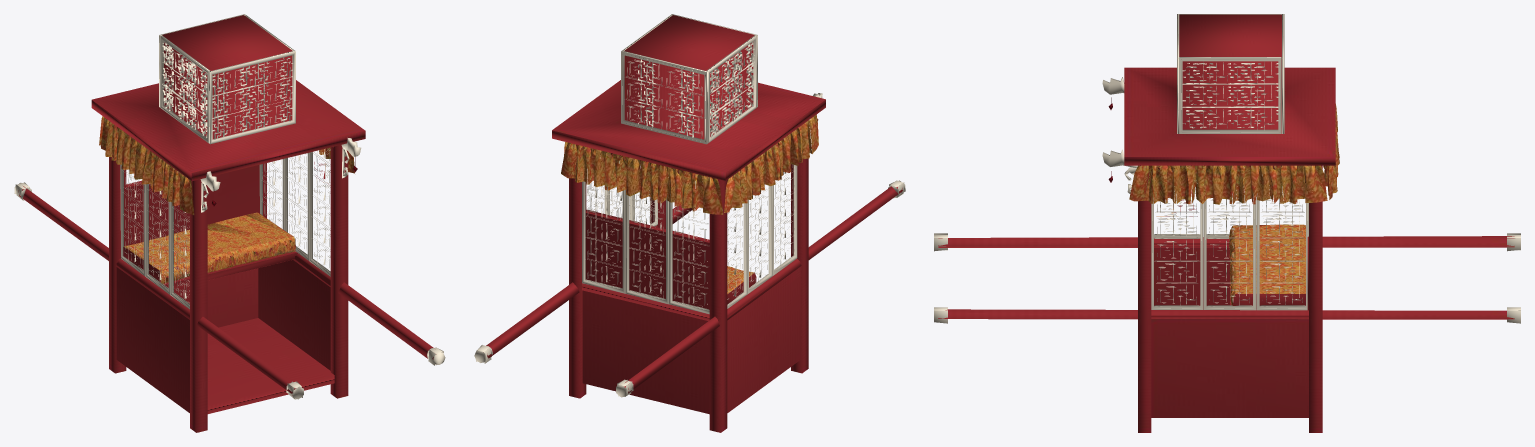
Rendered from GamaEmpty.glb.
3 views of the same model, side by side, from view 1: azimuth 30°, elevation 25°; view 2: azimuth 150°, elevation 25°; view 3: azimuth 270°, elevation 25° (orthographic). The views are drawn at different scales.
Visible parts, largest first — view 1: GamaMesh; view 2: GamaMesh; view 3: GamaMesh.
Boxes of the visible parts, x1=… form: GamaMesh: x1=14, y1=14, x2=445, y2=432; GamaMesh: x1=474, y1=14, x2=905, y2=432; GamaMesh: x1=934, y1=14, x2=1520, y2=432.
Bounding box in the file's own units: 1.79 × 3.28 × 4.88.
Materials: 7 (5 with a texture image).
